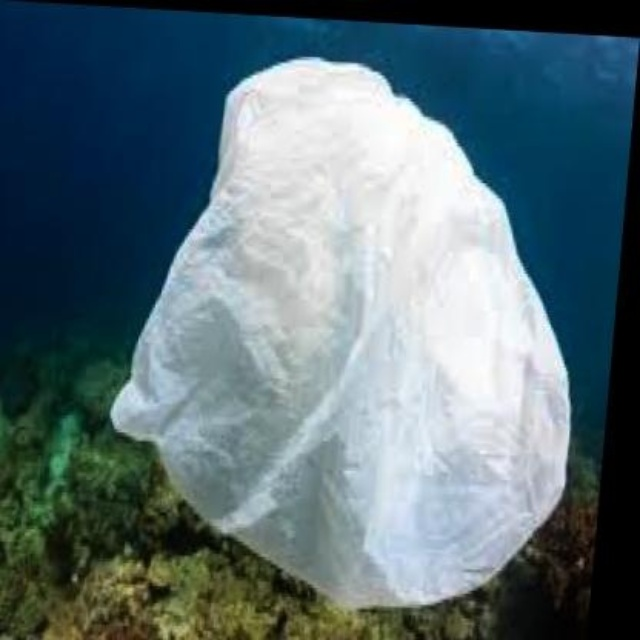trash: (112, 58, 568, 605)
